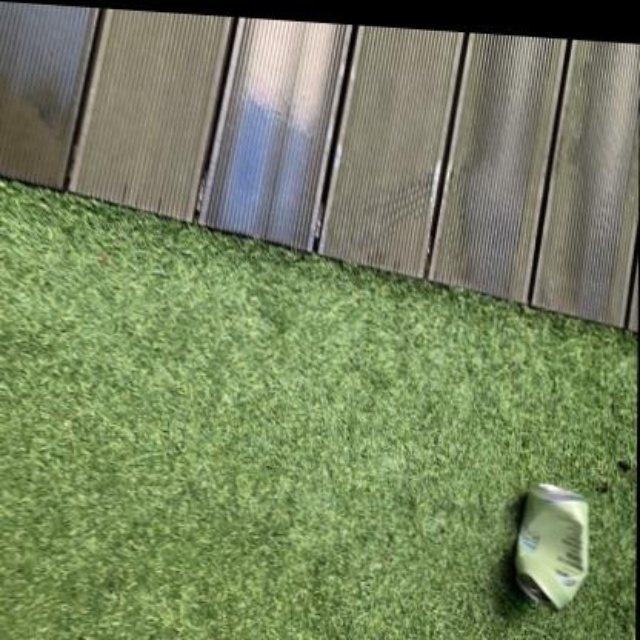trash: (515, 483, 588, 608)
